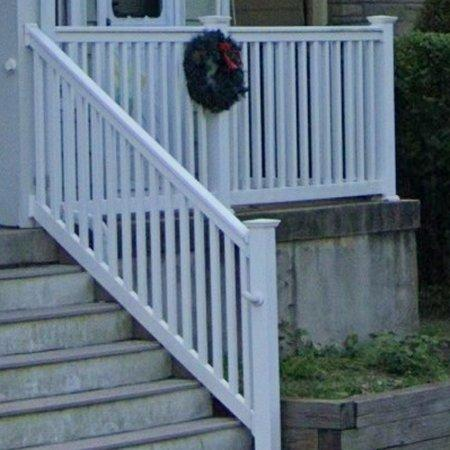stairs: (0, 229, 252, 450)
